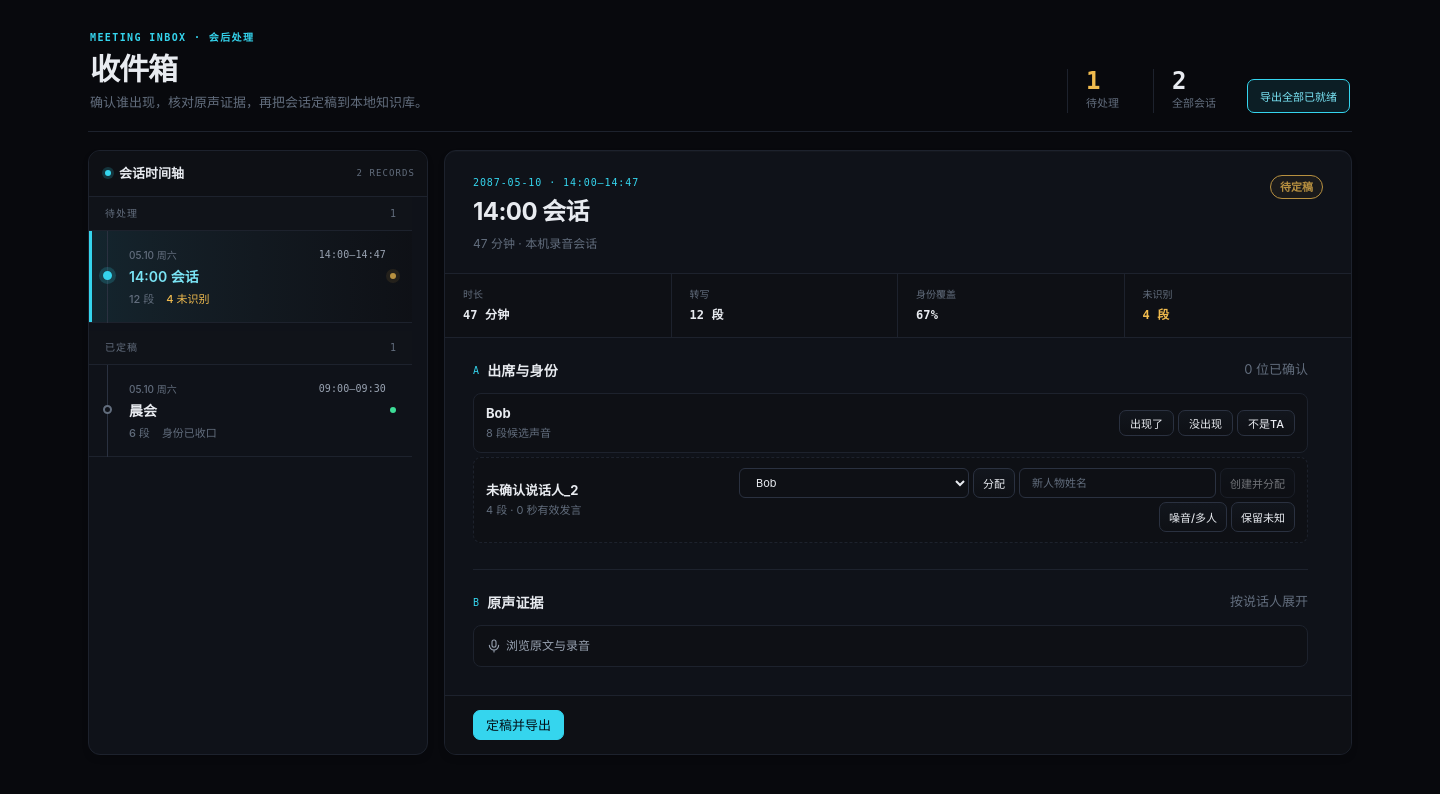
Test case: InboxPanel › turns a large transcript into searchable speaker-filtered reading blocks
Step 1. Click the heading "浏览原文与录音" → (538, 646), box 486,638 -> 590,654
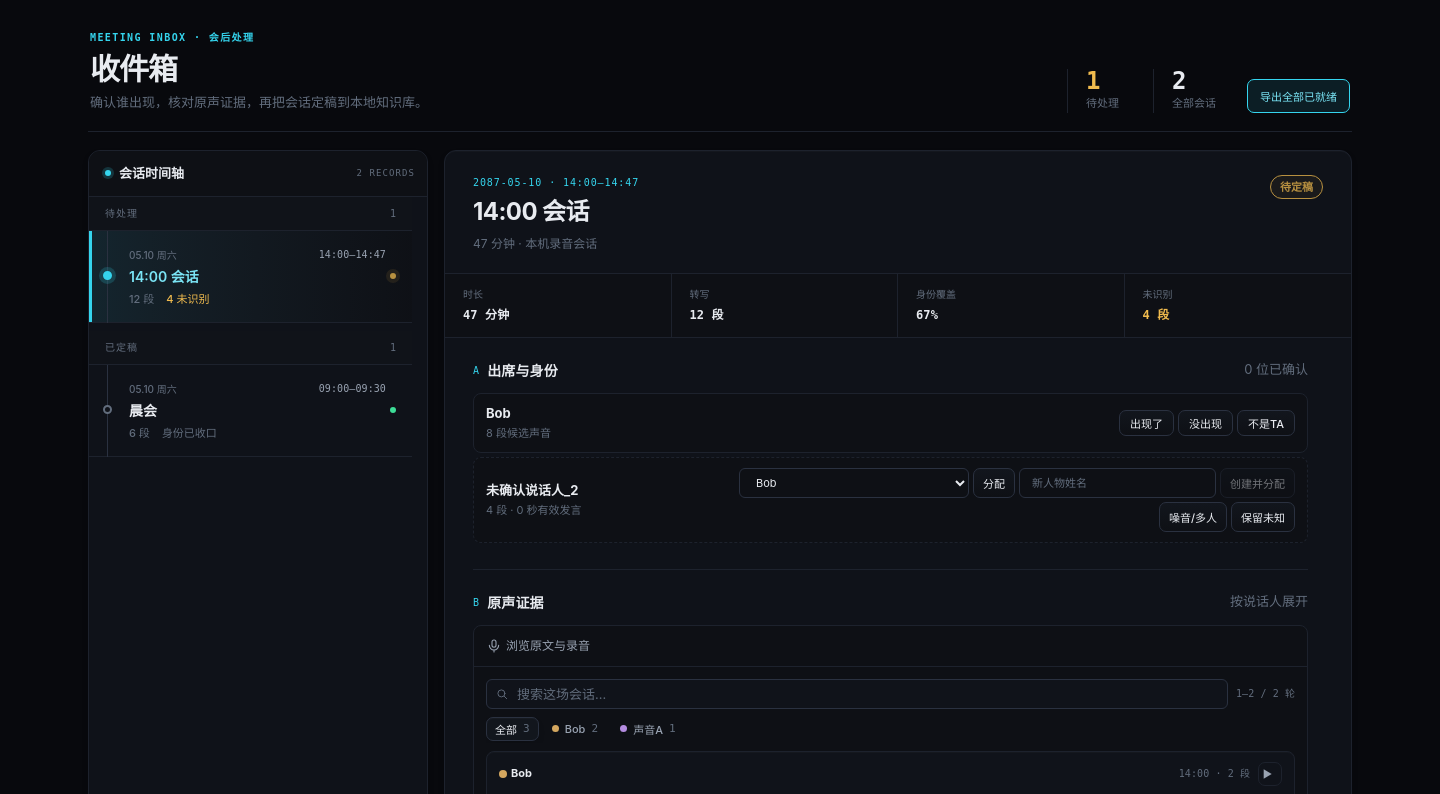
Check: the search field named "搜索会话原文" is shown
Check: the button "Bob 2" is shown, box 543,717 -> 607,741
Step 2. Type "导出" into the search field named "搜索会话原文" → (857, 694), box 486,679 -> 1228,709
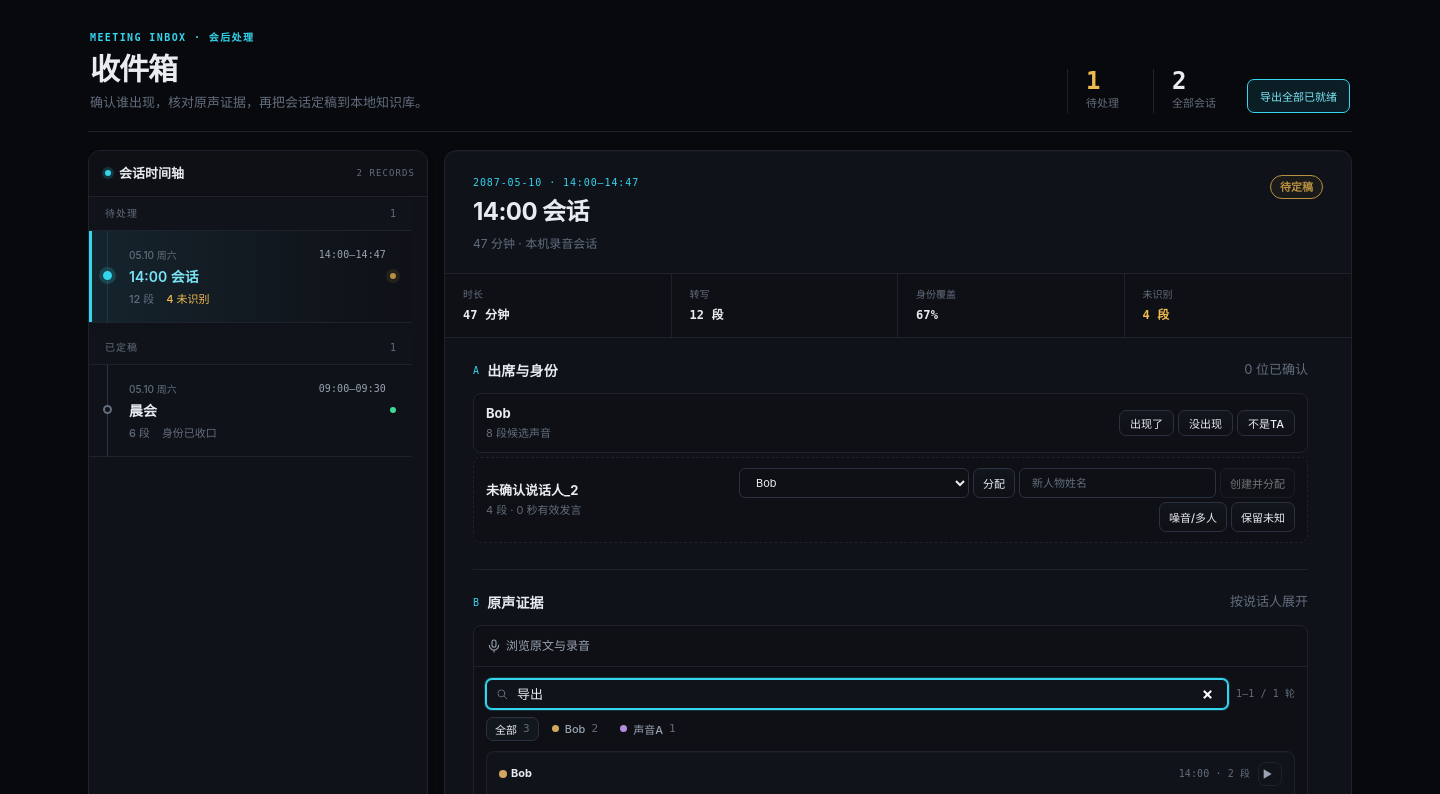
Check: the text "1–1 / 1 轮" is shown, box 1236,686 -> 1295,701
